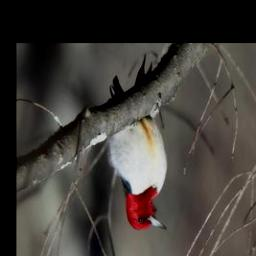Woodpecker: (105, 50, 171, 231)
